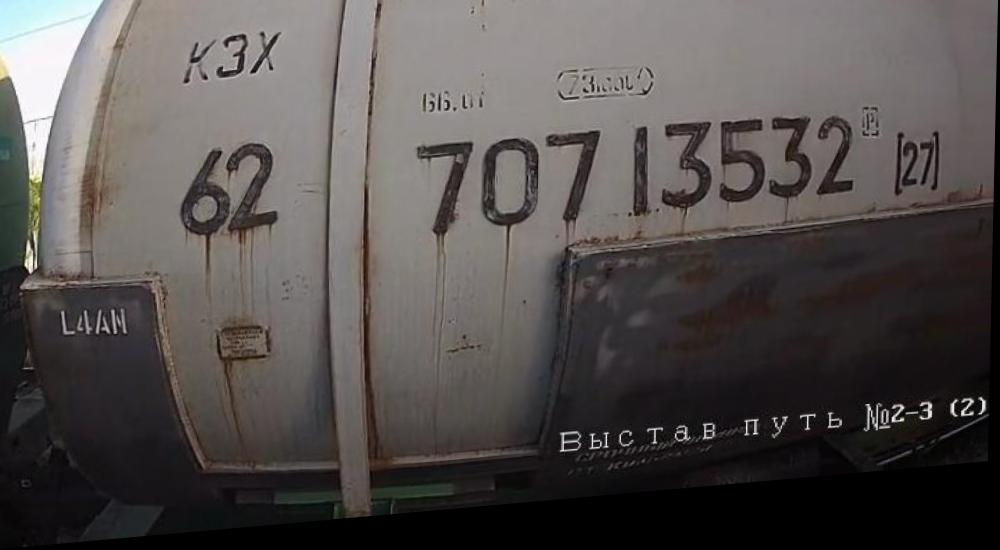Wagon-number: (410, 115, 861, 245)
